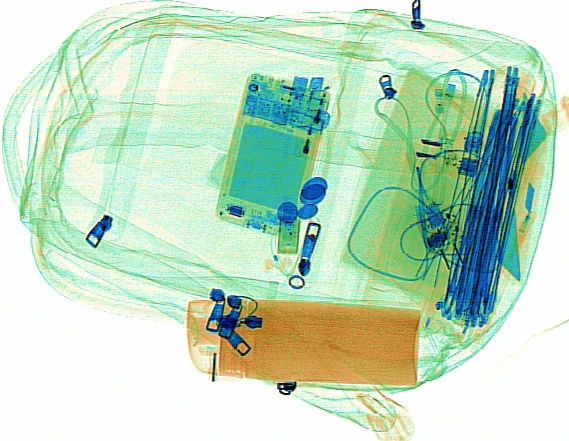lighter: (290, 75, 335, 172)
